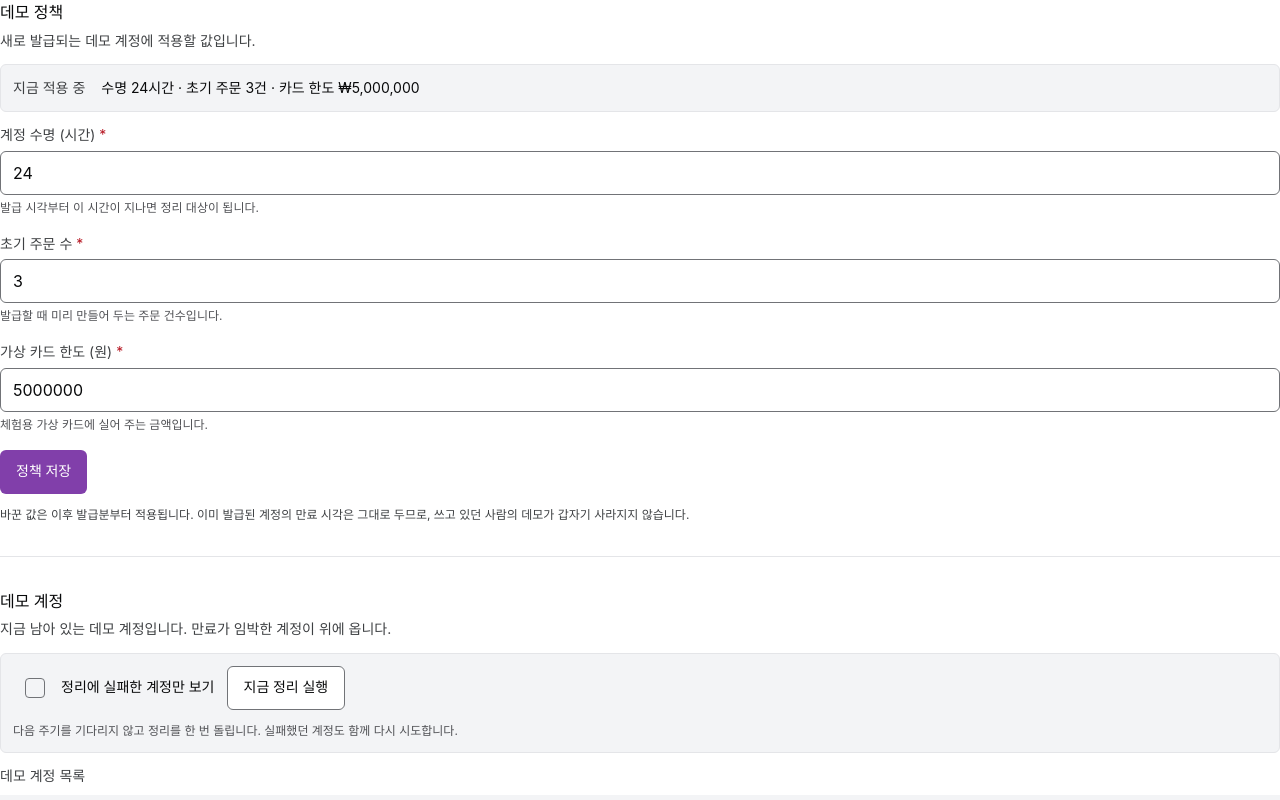
it: 정리 실패와 재시도 (F4 · F5) › shows the refusal when the sweep could not run (U6)
This screenshot has width=1280, height=800.
Click the button "지금 정리 실행" at (286, 688), box 226,666 -> 345,710
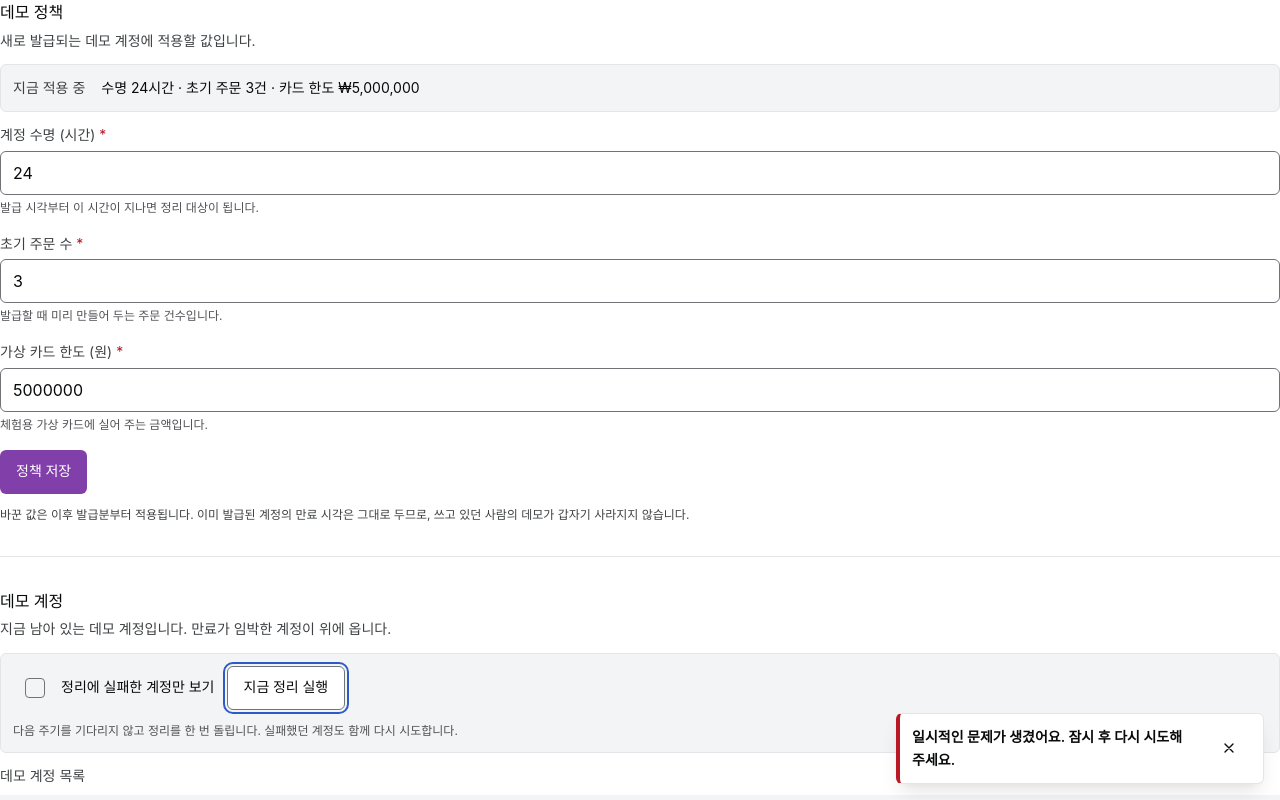
Expected: the text "일시적인 문제가 생겼어요. 잠시 후 다시 시도해 주세요." is shown, 912,726 -> 1195,771
